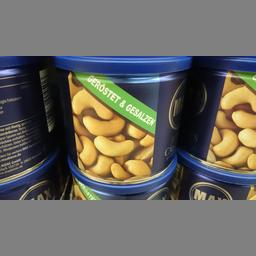nuts: (50, 55, 194, 184)
